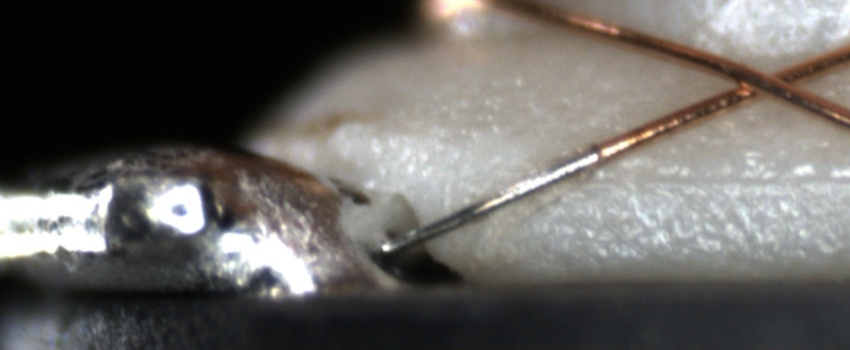CL: (711, 54, 810, 110)
DL: (559, 151, 850, 215)
TS: (376, 148, 600, 258)
